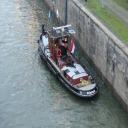tugboat: (38, 22, 101, 104)
